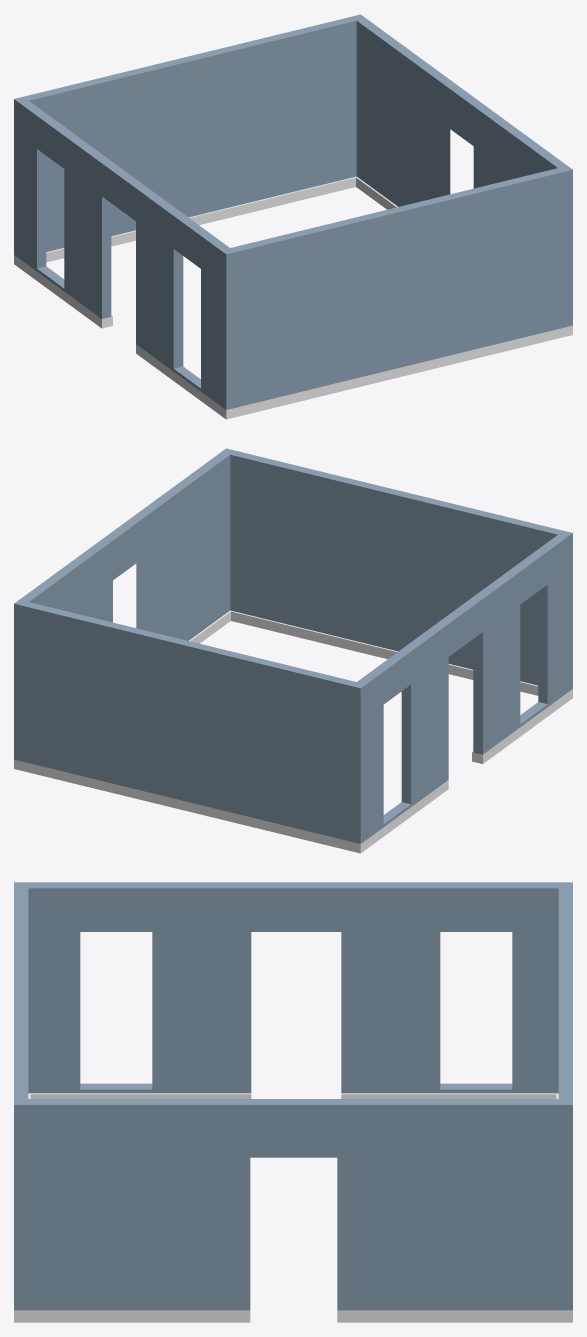
Rendered from Walls.FBX.
3 views of the same model, one above another, from view 1: azimuth 30°, elevation 25°; view 2: azimuth 150°, elevation 25°; view 3: azimuth 270°, elevation 25° (orthographic). The views are drawn at different scales.
Parts seen in each view (by area): view 1: Walls; view 2: Walls; view 3: Walls.
Part boxes in pixels (x1,y1,x2,y2): Walls: (14,14,572,419); Walls: (14,448,572,853); Walls: (14,882,572,1322).
Bounding box in the file's own units: 346 × 367 × 157.
